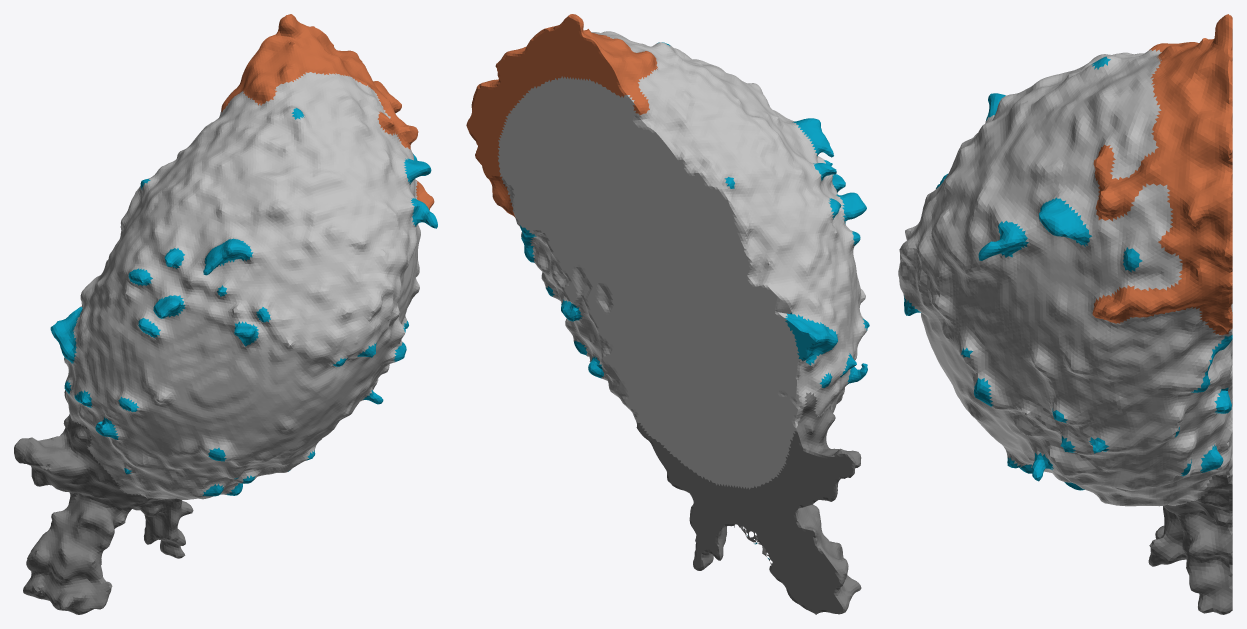
3 views of the same model, side by side, from view 1: azimuth 30°, elevation 25°; view 2: azimuth 150°, elevation 25°; view 3: azimuth 270°, elevation 25° (orthographic). The views are drawn at different scales.
Size of the model in its own units: 118 by 158 by 68.63.
